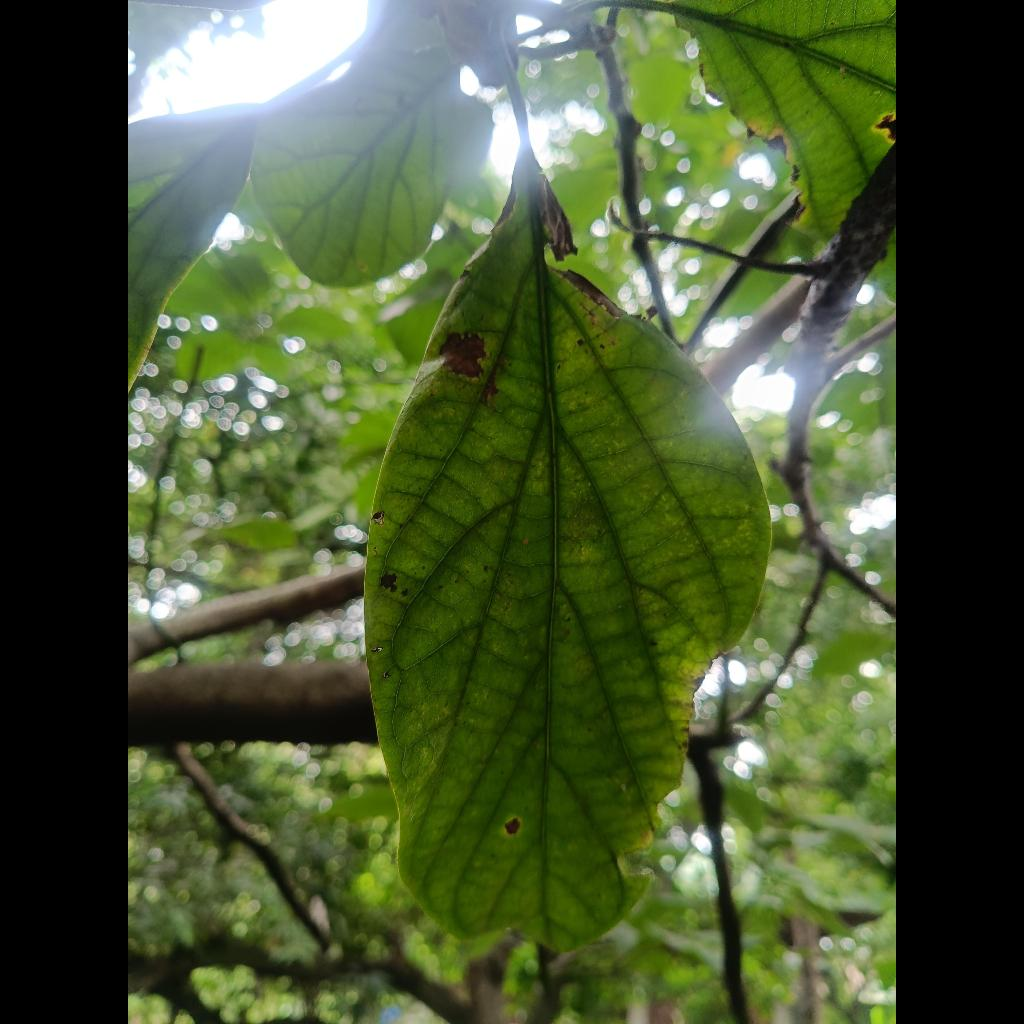antracnosis_hoja: (364, 175, 770, 949)
